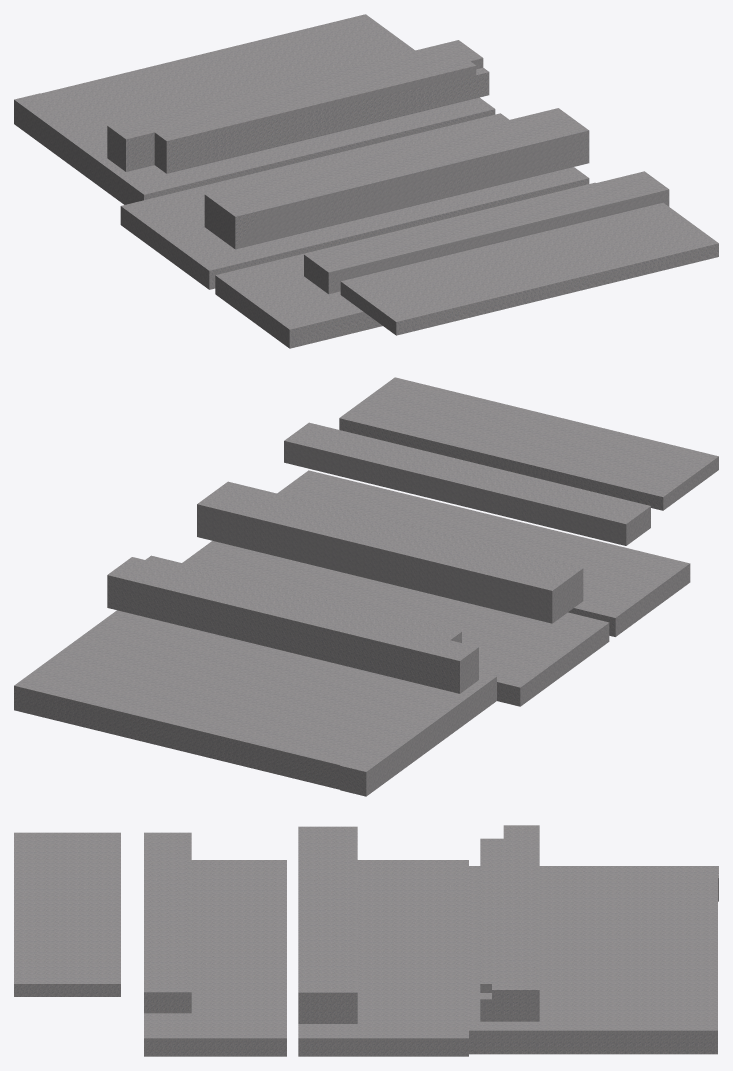
3 views of the same model, one above another, from view 1: azimuth 30°, elevation 25°; view 2: azimuth 150°, elevation 25°; view 3: azimuth 270°, elevation 25° (orthographic). The views are drawn at different scales.
Parts seen in each view (by area): view 1: 0_1_3; view 2: 0_1_3; view 3: 0_1_3.
Boxes of the visible parts, <box> form: 0_1_3: <box>14,14,718,348</box>; 0_1_3: <box>14,377,718,796</box>; 0_1_3: <box>14,825,718,1056</box>.
Bounding box in the file's own units: 14.6 × 2.45 × 24.41.
8 materials, 8 textured.
